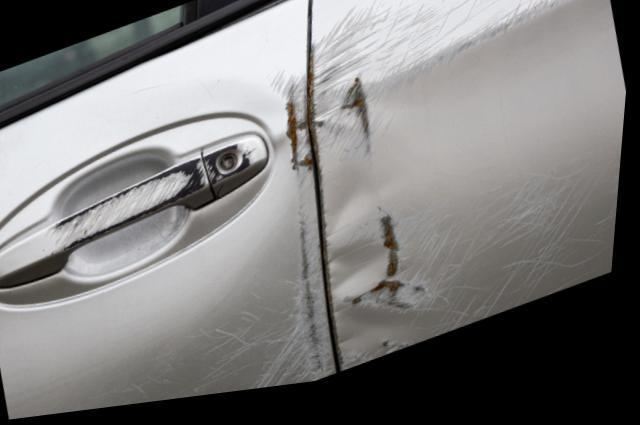dent: (327, 196, 419, 367)
scratch: (94, 74, 342, 413), (350, 159, 626, 380), (312, 0, 606, 172), (52, 149, 256, 258)
